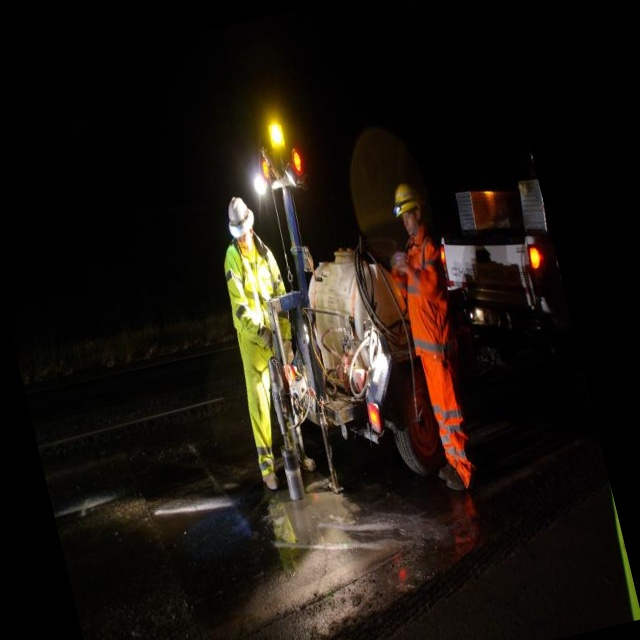Con_Casco: (221, 194, 262, 254)
Con_Chaleco: (388, 227, 465, 368), (220, 237, 298, 358)
